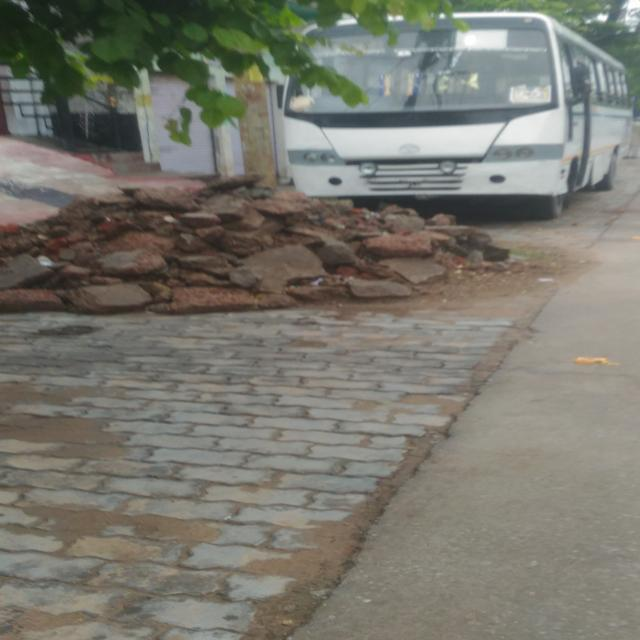bus_front: (274, 0, 639, 225)
